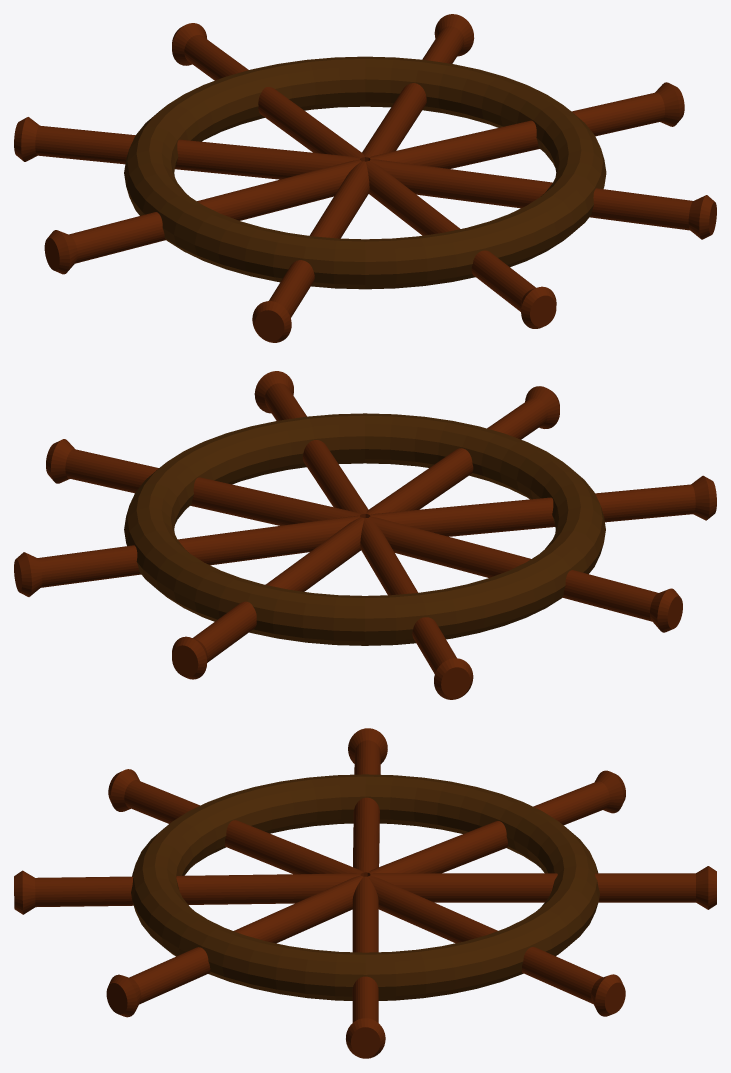
Rendered from boat_wheel.glb.
3 views of the same model, one above another, from view 1: azimuth 30°, elevation 25°; view 2: azimuth 150°, elevation 25°; view 3: azimuth 270°, elevation 25° (orthographic). The views are drawn at different scales.
Visible parts, largest first — view 1: Torus, Cylinder.003, Cylinder.007, Cylinder.006, Cylinder.002, Cylinder.004, Cylinder, Cylinder.005, Cylinder.001; view 2: Torus, Cylinder.001, Cylinder.005, Cylinder.006, Cylinder.002, Cylinder, Cylinder.004, Cylinder.007, Cylinder.003; view 3: Torus, Cylinder, Cylinder.004, Cylinder.003, Cylinder.001, Cylinder.007, Cylinder.005, Cylinder.002, Cylinder.006.
Boxes of the visible parts, <box> form: Torus: <box>124,56,606,289</box>; Cylinder.003: <box>369,159,716,239</box>; Cylinder.007: <box>14,117,360,179</box>; Cylinder.006: <box>44,159,361,274</box>; Cylinder.002: <box>368,82,684,168</box>; Cylinder.004: <box>366,161,556,328</box>; Cylinder: <box>172,23,364,161</box>; Cylinder.005: <box>252,161,369,342</box>; Cylinder.001: <box>362,14,474,161</box>; Torus: <box>124,413,605,645</box>; Cylinder.001: <box>14,515,360,596</box>; Cylinder.005: <box>369,475,716,536</box>; Cylinder.006: <box>369,516,682,632</box>; Cylinder.002: <box>46,439,361,525</box>; Cylinder: <box>172,517,364,679</box>; Cylinder.004: <box>365,386,559,517</box>; Cylinder.007: <box>360,518,473,699</box>; Cylinder.003: <box>254,371,368,518</box>; Torus: <box>131,774,599,1000</box>; Cylinder: <box>370,866,716,909</box>; Cylinder.004: <box>14,870,360,914</box>; Cylinder.003: <box>106,875,363,1017</box>; Cylinder.001: <box>368,875,625,1016</box>; Cylinder.007: <box>367,770,625,876</box>; Cylinder.005: <box>108,769,363,876</box>; Cylinder.002: <box>346,876,385,1058</box>; Cylinder.006: <box>348,728,387,876</box>.
Size of the model in its own units: 5.74 by 0.4362 by 5.74.
